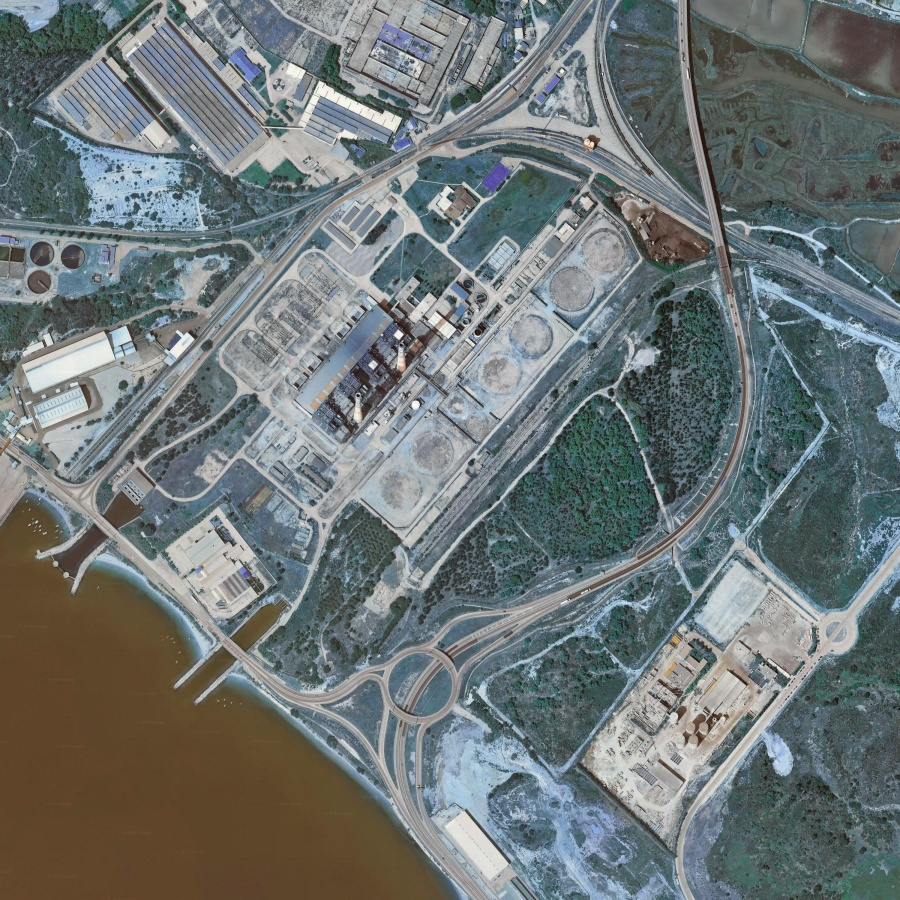PowerPlant: (254, 176, 628, 516)
